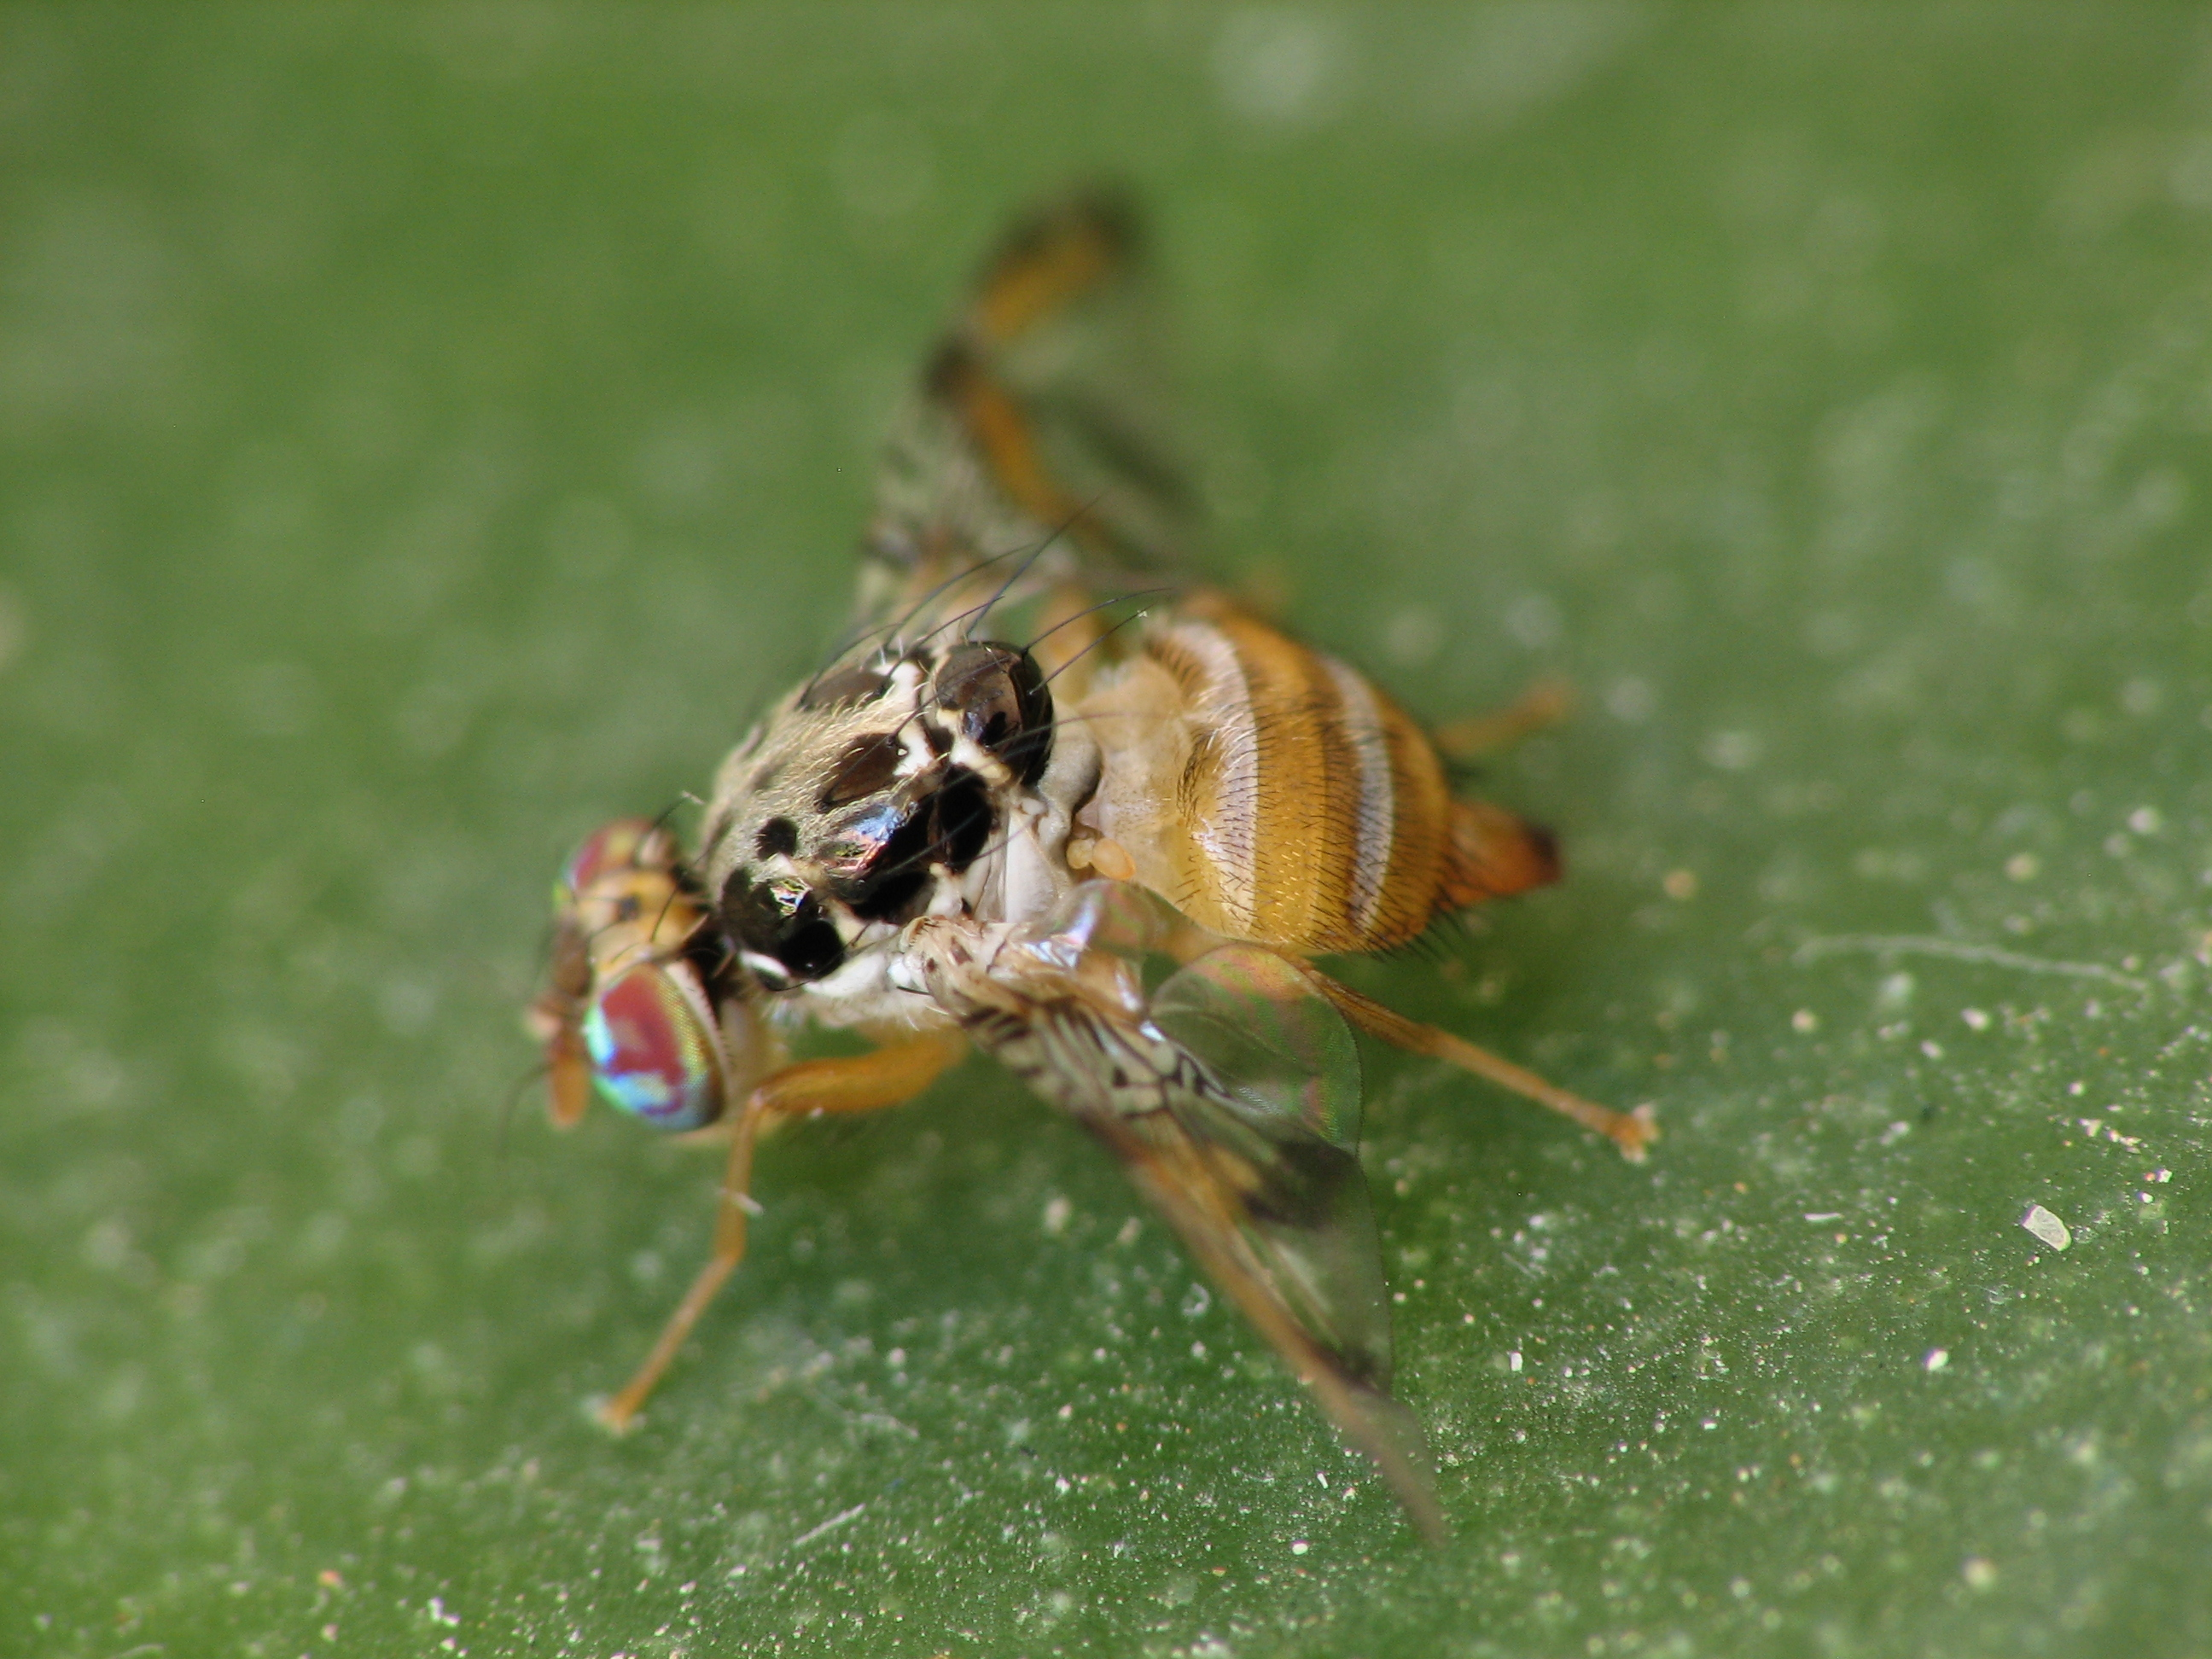Fruit fly: (460, 287, 1592, 1550)
